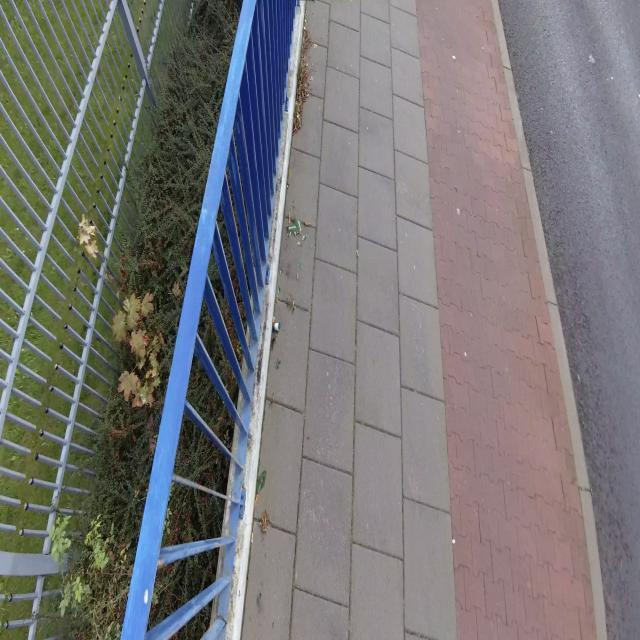rubbish: (287, 220, 303, 235), (272, 321, 280, 332), (277, 285, 281, 294)
